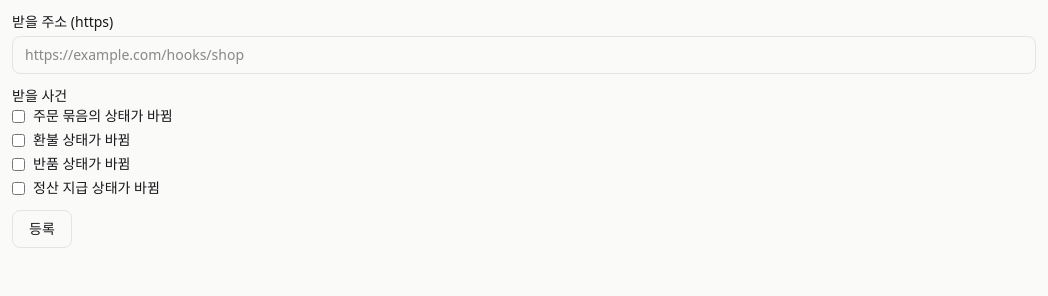
Test case: 셀러 웹훅 › 사건을 안 고르면 보내지 않는다
The width and height of the screenshot is (1048, 296).
Step 1. Type "https://example.com/hook" into the field labelled "받을 주소 (https)" → (524, 55), box [12,36,1036,74]
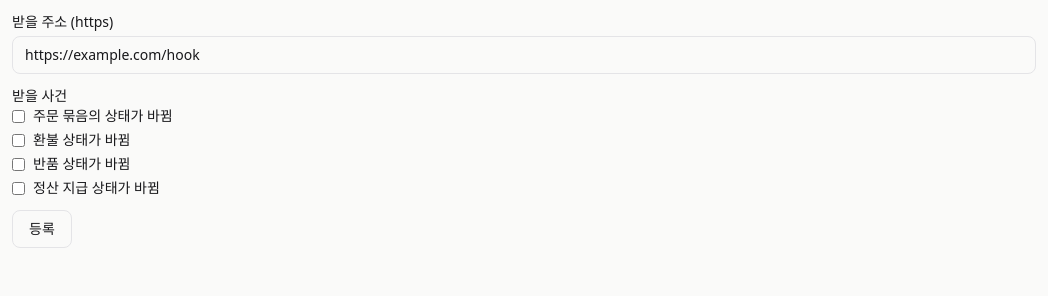
Step 2. Submit the form "등록"
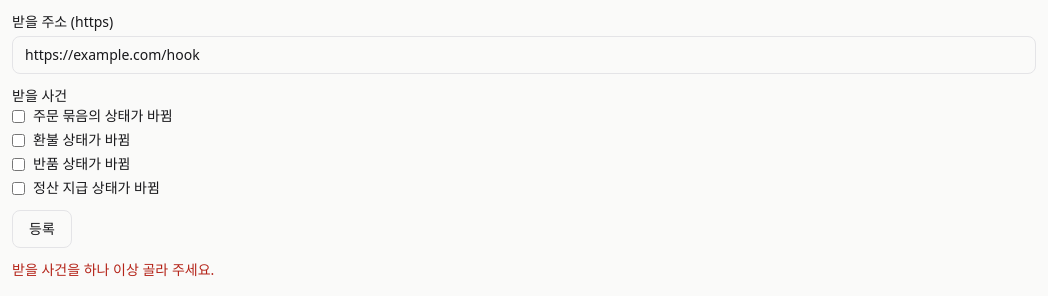
Expected: the message reads "받을 사건을 하나 이상 골라 주세요.", [12,260,214,279]
